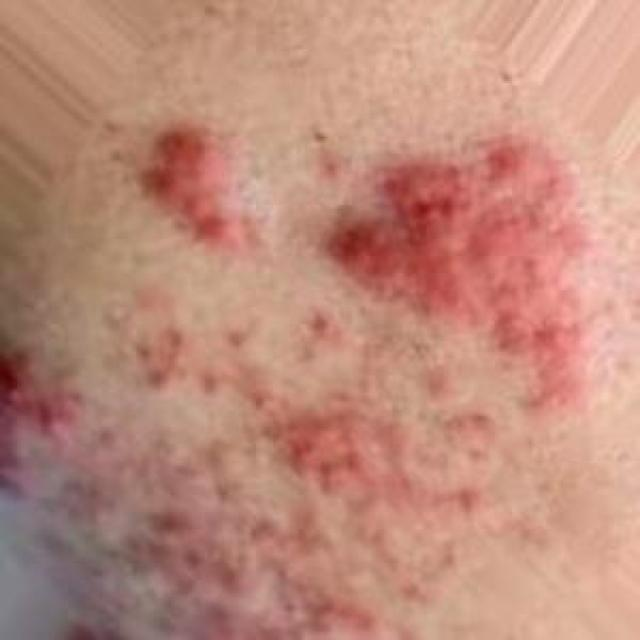Shingles: (0, 310, 501, 639), (334, 132, 586, 416), (141, 126, 259, 262)
